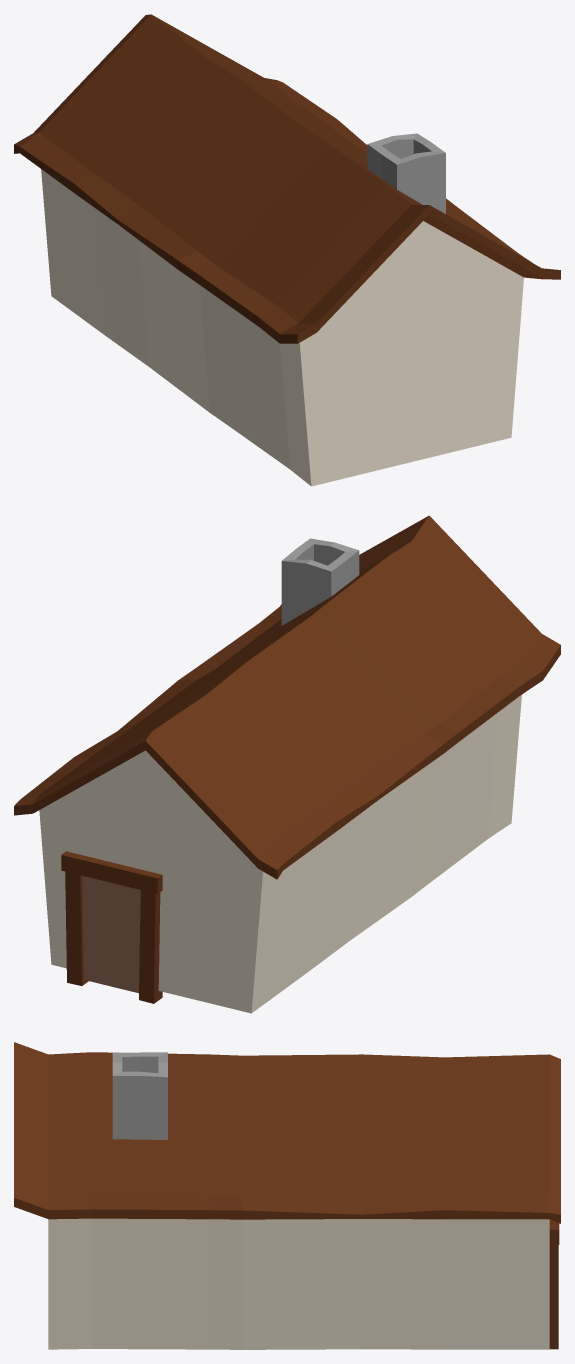
File: house1.fbx
The picture shows the model from 3 angles, top to bottom: view 1: azimuth 30°, elevation 25°; view 2: azimuth 150°, elevation 25°; view 3: azimuth 270°, elevation 25°; orthographic projection. The views are drawn at different scales.
Visible parts, largest first — view 1: Cube, Cube.001; view 2: Cube, Cube.002, Cube.001, Cube.004, Cube.005, Cube.003; view 3: Cube, Cube.001, Cube.003.
Boxes of the visible parts, x1=… form: Cube: x1=14, y1=14, x2=560, y2=486; Cube.001: x1=367, y1=133, x2=445, y2=213; Cube: x1=14, y1=515, x2=560, y2=1013; Cube.002: x1=82, y1=876, x2=140, y2=993; Cube.001: x1=281, y1=538, x2=359, y2=625; Cube.004: x1=139, y1=890, x2=162, y2=1003; Cube.005: x1=61, y1=851, x2=162, y2=893; Cube.003: x1=65, y1=871, x2=88, y2=985; Cube: x1=14, y1=1042, x2=560, y2=1349; Cube.001: x1=112, y1=1052, x2=167, y2=1139; Cube.003: x1=549, y1=1245, x2=558, y2=1349.
Bounding box in the file's own units: 353 × 357 × 655.
